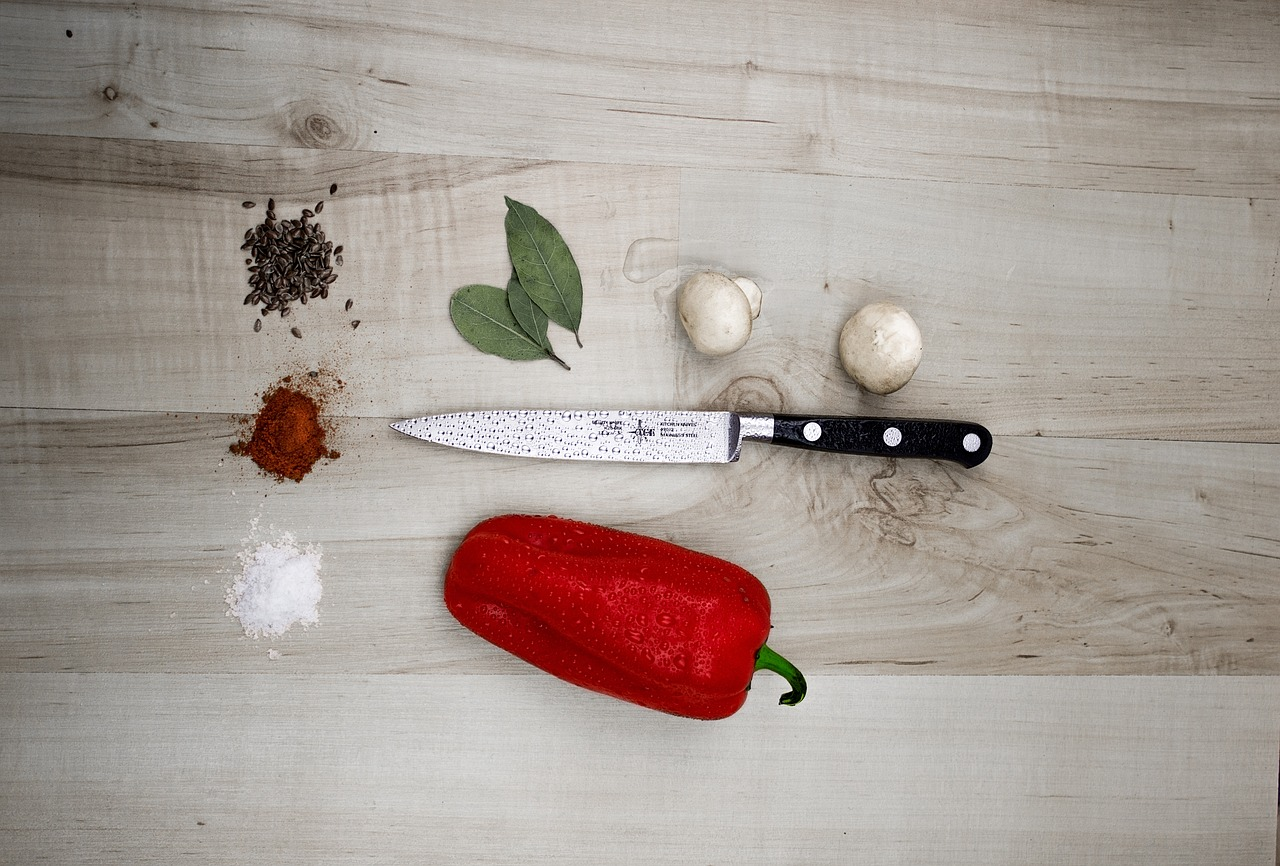knife: (379, 405, 995, 479)
